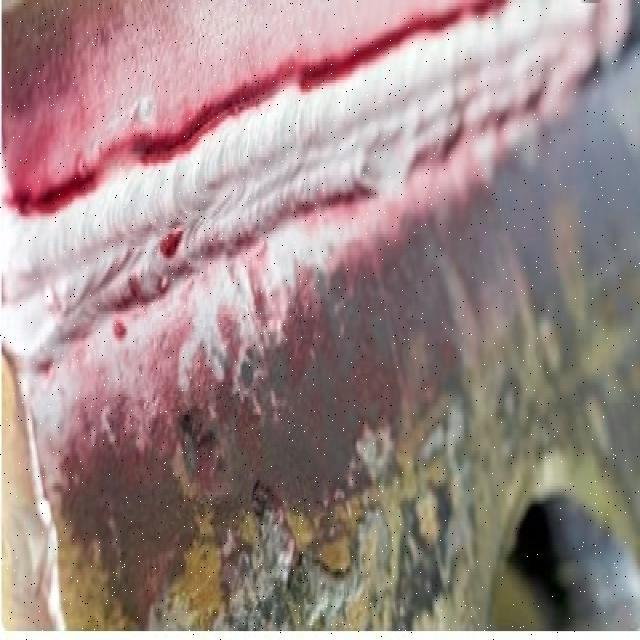Bad Welding: (4, 5, 596, 368)
